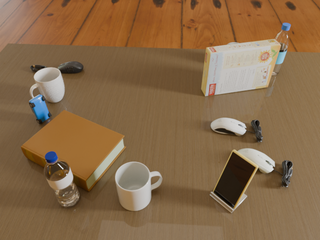book: (21, 110, 126, 192)
bottle: (44, 151, 80, 207), (272, 23, 291, 75)
box: (201, 39, 281, 96)
cup: (115, 162, 162, 211), (30, 68, 64, 103)
mouse: (237, 149, 275, 173), (211, 118, 247, 136), (58, 62, 83, 73)
phone: (213, 150, 258, 208)
toy_car: (29, 95, 51, 124)
